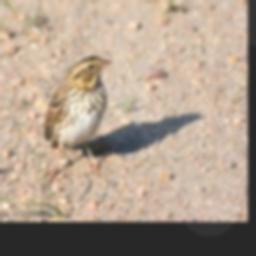Sparrow: (42, 52, 115, 185)
